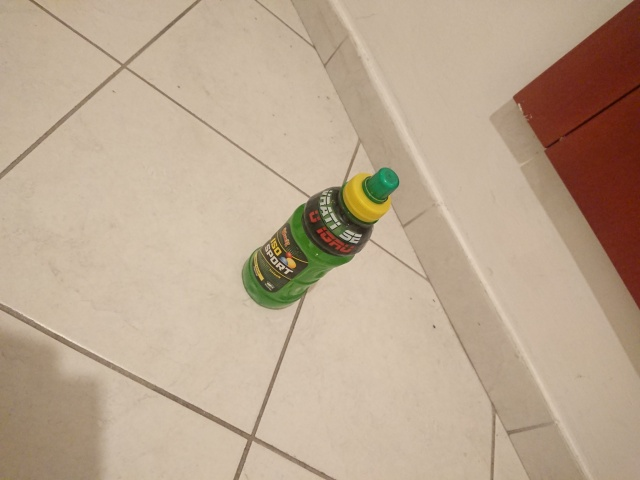Vindi Iso Sport Lemon-Grapefruit 500mL: (239, 165, 402, 312)
